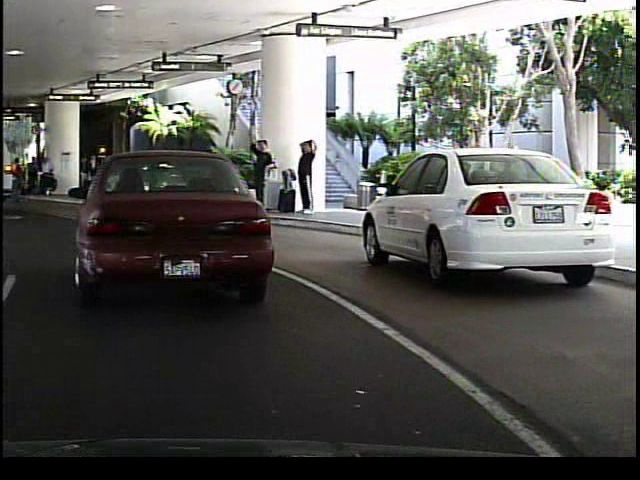person: (244, 131, 272, 214), (293, 133, 317, 216), (298, 147, 321, 212), (138, 155, 155, 196)
